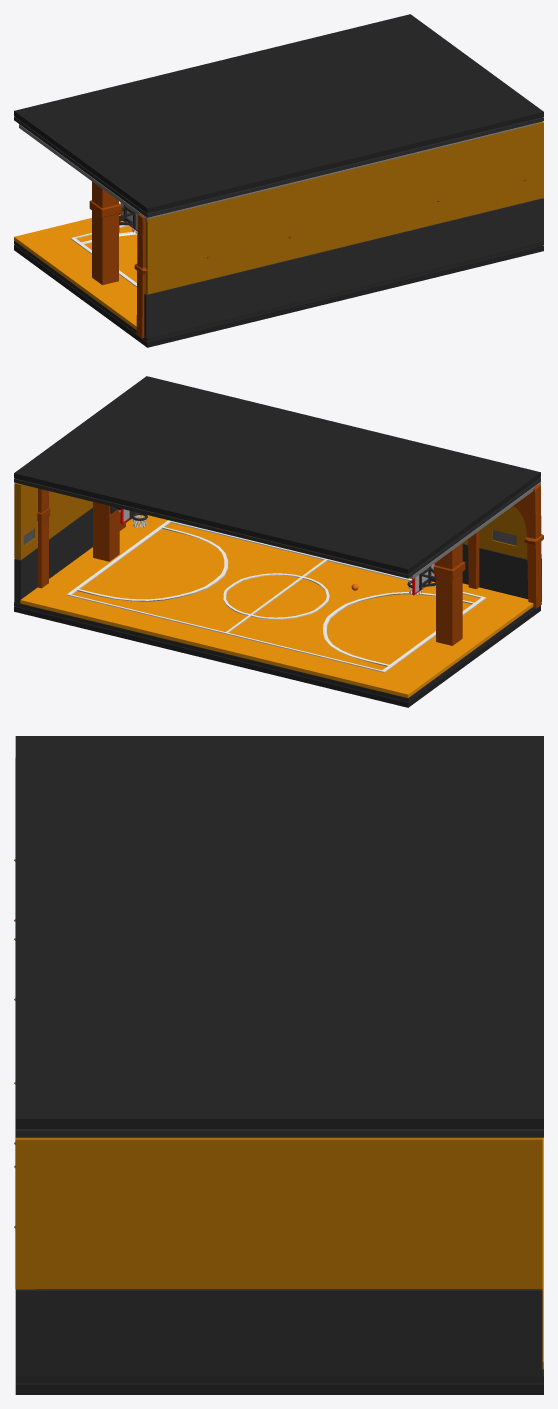
The model's file is basketball_place.glb.
The picture shows the model from 3 angles, top to bottom: view 1: azimuth 30°, elevation 25°; view 2: azimuth 150°, elevation 25°; view 3: azimuth 270°, elevation 25°; orthographic projection. The views are drawn at different scales.
Visible parts, largest first — view 1: polySurface2, pCube10, pCube9, pCube4, pCube6, polySurface3, pCube12, pCube5, polySurface1, polySurface7; view 2: polySurface2, pCube4, Ligne, pCube12 (×2), pCube6, pCube30, pCube7, polySurface7, polySurface3, pCube5, pCube9, pCube10 (+2 smaller); view 3: polySurface2, pCube30, pCube7, pCube6, polySurface3, pCube5.
Boxes of the visible parts, x1=… form: polySurface2: x1=14, y1=14, x2=543, y2=213; pCube10: x1=145, y1=122, x2=543, y2=294; pCube9: x1=144, y1=198, x2=543, y2=338; pCube4: x1=14, y1=214, x2=137, y2=329; pCube6: x1=14, y1=245, x2=543, y2=347; polySurface3: x1=14, y1=116, x2=543, y2=217; pCube12: x1=89, y1=181, x2=121, y2=285; pCube5: x1=14, y1=240, x2=543, y2=341; polySurface1: x1=19, y1=123, x2=537, y2=221; polySurface7: x1=134, y1=214, x2=209, y2=338; polySurface2: x1=14, y1=376, x2=540, y2=574; pCube4: x1=20, y1=515, x2=533, y2=697; Ligne: x1=66, y1=520, x2=486, y2=672; pCube12 (×2): x1=93, y1=502, x2=465, y2=645; pCube6: x1=14, y1=606, x2=540, y2=707; pCube30: x1=14, y1=483, x2=92, y2=559; pCube7: x1=14, y1=507, x2=129, y2=603; polySurface7: x1=468, y1=484, x2=543, y2=608; polySurface3: x1=14, y1=478, x2=540, y2=578; pCube5: x1=14, y1=602, x2=535, y2=701; pCube9: x1=435, y1=543, x2=541, y2=601; pCube10: x1=462, y1=486, x2=540, y2=558; polySurface2: x1=15, y1=736, x2=543, y2=1129; pCube30: x1=16, y1=1137, x2=542, y2=1288; pCube7: x1=15, y1=1289, x2=542, y2=1376; pCube6: x1=15, y1=1383, x2=543, y2=1394; polySurface3: x1=15, y1=1129, x2=543, y2=1137; pCube5: x1=15, y1=1369, x2=543, y2=1383.
Bounding box in the file's own units: 13.78 × 4.58 × 7.98.
Materials: 43 (3 with a texture image).
